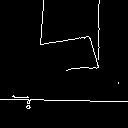cube: (19, 0, 109, 78)
